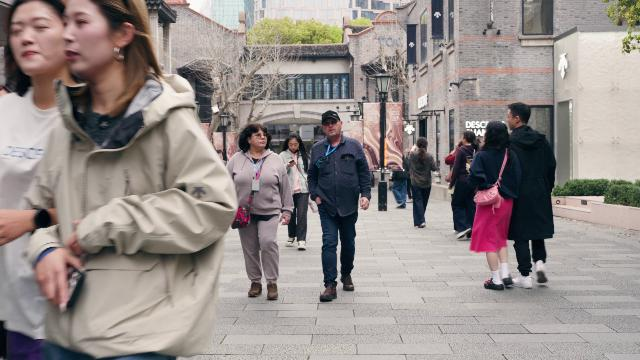person: (16, 0, 241, 360), (0, 0, 85, 360), (226, 122, 294, 300), (308, 110, 371, 301), (502, 101, 557, 289), (466, 120, 522, 291), (278, 131, 312, 250), (448, 130, 481, 240), (408, 136, 440, 228)
